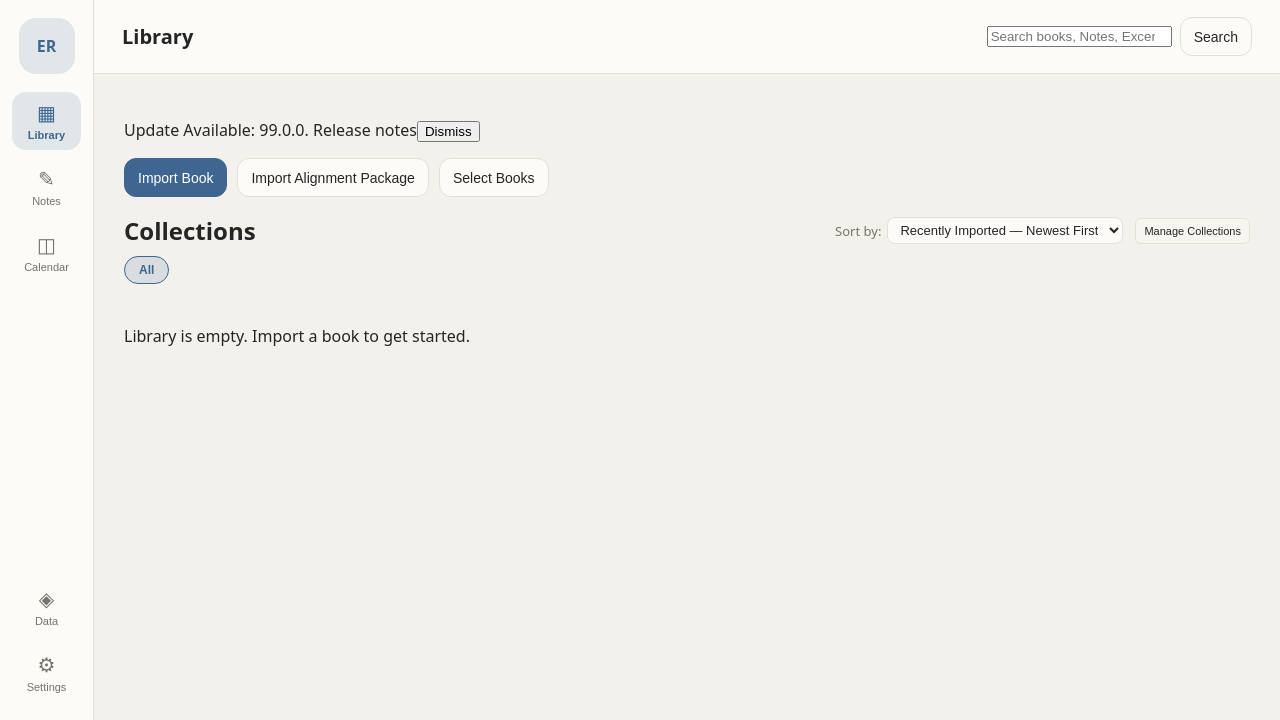
Scenario: Startup Update Awareness check (PRODUCT_SPEC.md SS17; FC-C08) › Dismiss hides the banner
Expected: the text "Update Available: 99.0.0. Release notes Dismiss" is shown, x1=124 y1=119 x2=480 y2=142
What coordinates should you click on to do the following:
click the button "Dismiss"
I would click on:
 (448, 132)
Its box is x1=417 y1=121 x2=480 y2=142.
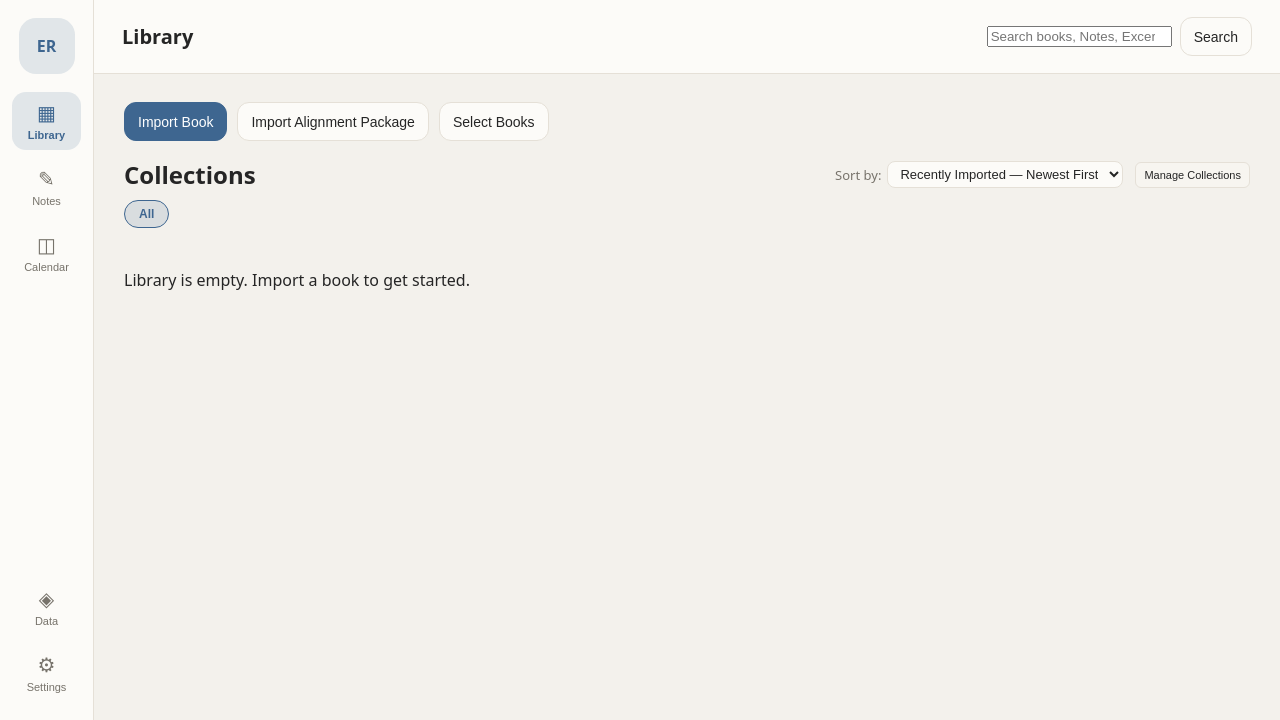
Expected: the text "Update Available" is gone
